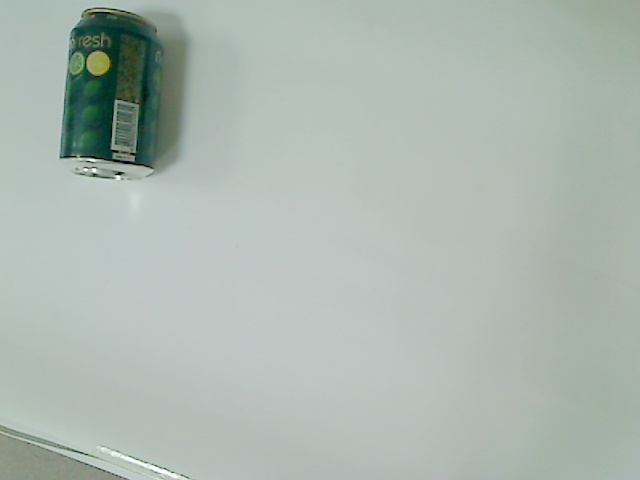can: (58, 3, 170, 184)
